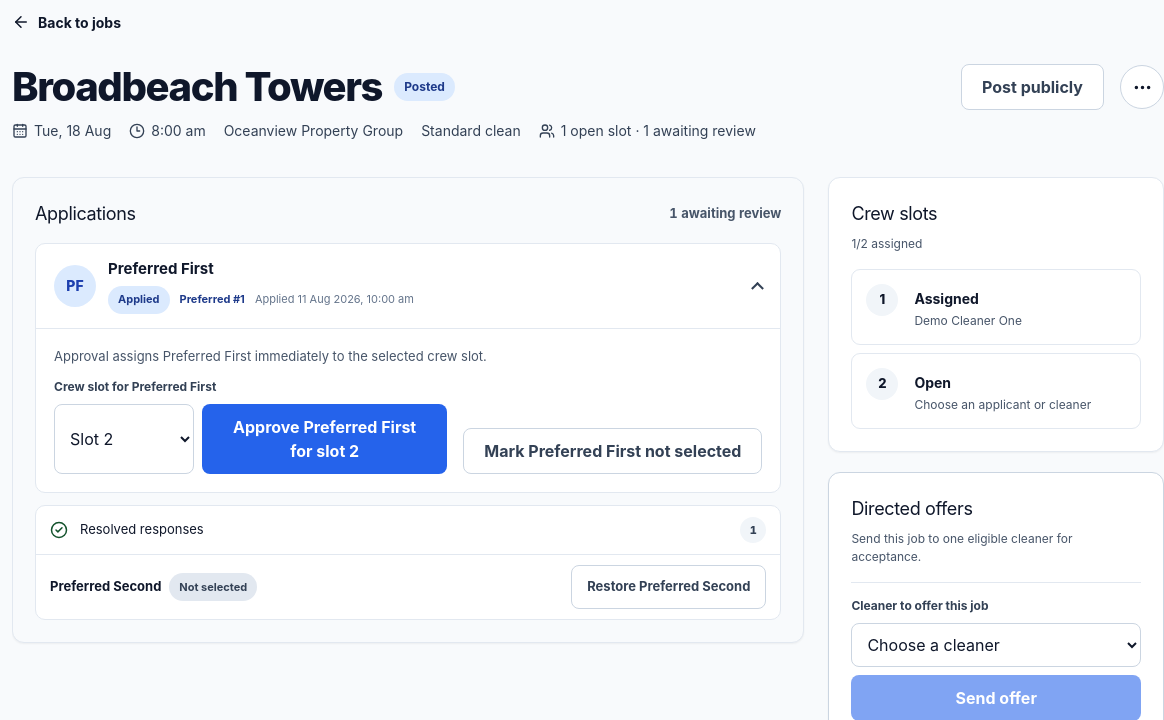
Scenario: CLE-22 job detail workspace › keeps a restore failure beside the resolved applicant
Click the button "Restore Preferred Second": (669, 587) [571,565,766,609]
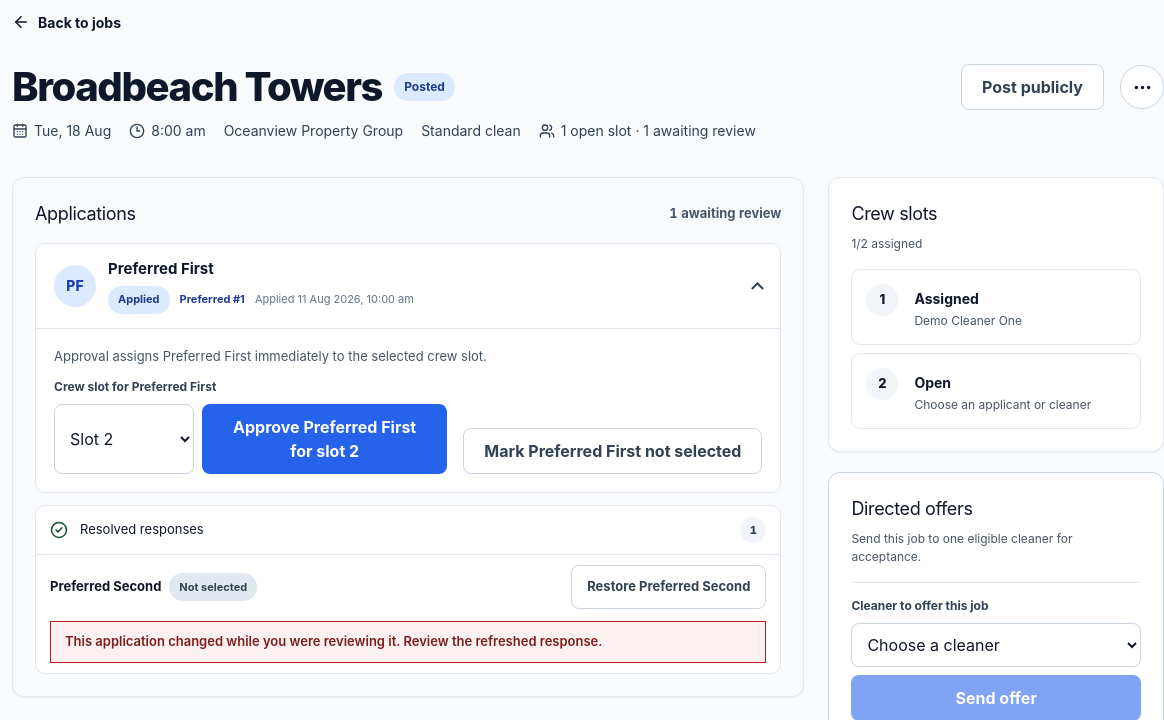
Expected: the message shows "This application changed", [65,633,602,649]
